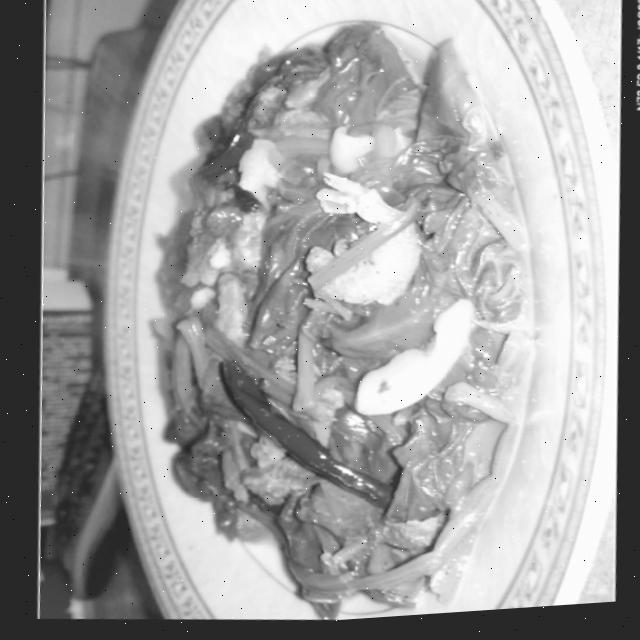蔬菜料理: (56, 0, 634, 637)
